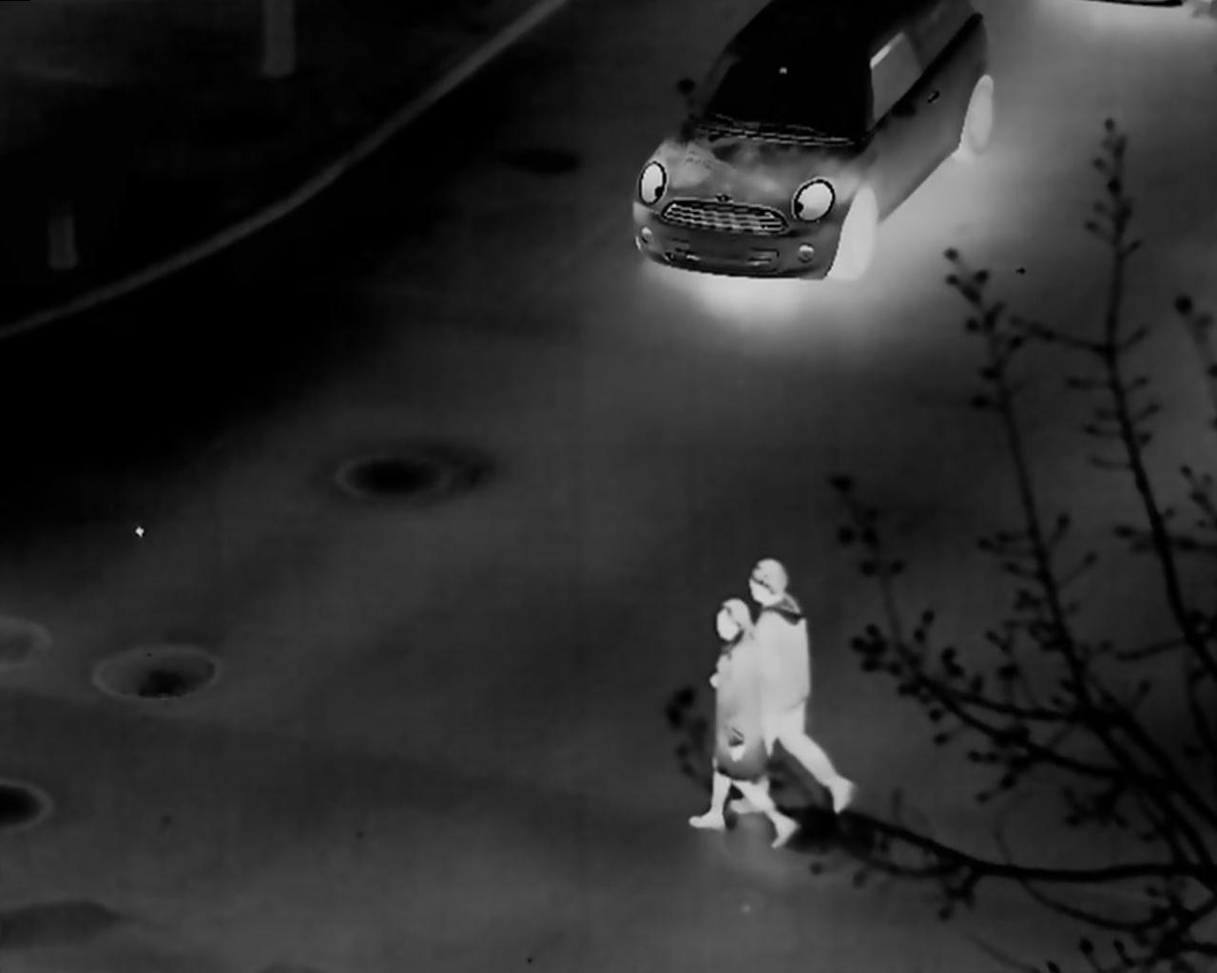person: (743, 560, 853, 821), (703, 598, 797, 840)
